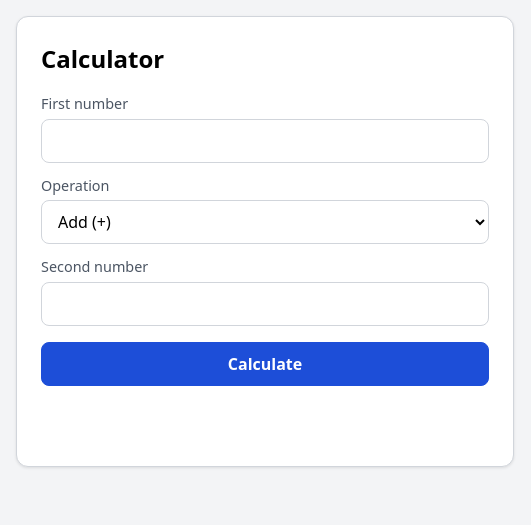
it: shows a user-facing message for API error NEGATIVE_SQUARE_ROOT
This screenshot has width=531, height=525.
In the field labelled "First number": (265, 141) [41,119,489,163], type "1"
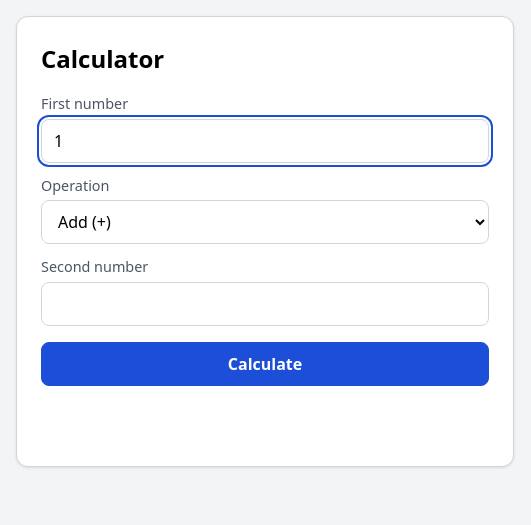
In the field labelled "Second number": (265, 304) [41,282,489,326], type "0"
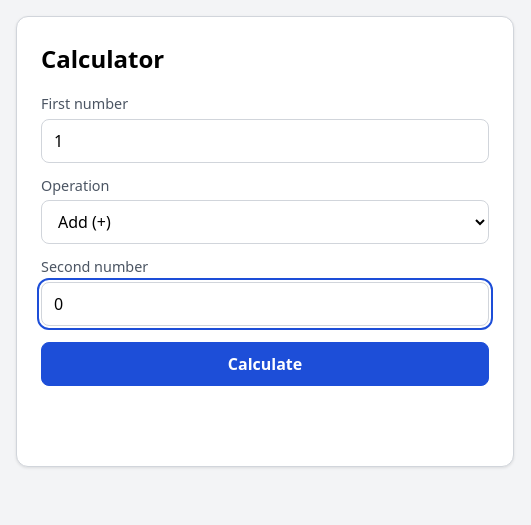
Click the button "Calculate": (265, 364) [41,342,489,386]
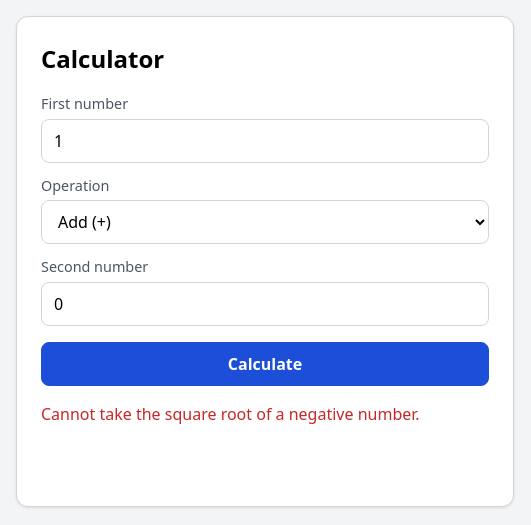
expect the element named "Result" is empty: met, box [41,442,489,482]
expect the message reads "Cannot take the square root of a negative number.": met, box [41,403,420,425]
